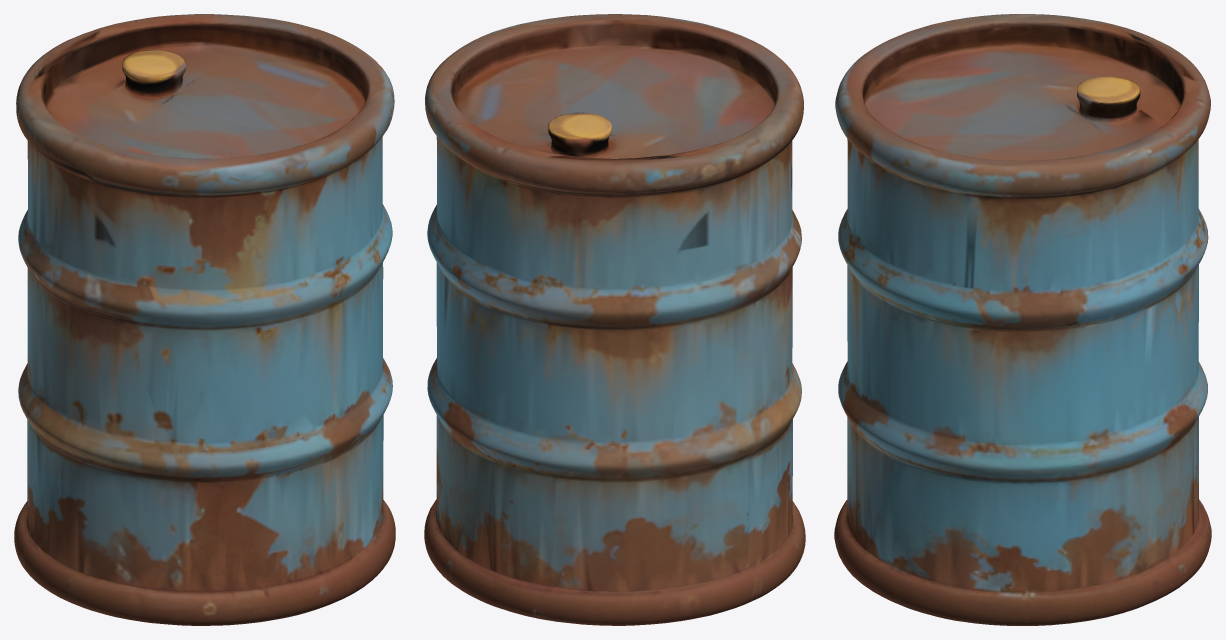
Rendered from barrel.fbx.
The picture shows the model from 3 angles, left to right: view 1: azimuth 30°, elevation 25°; view 2: azimuth 150°, elevation 25°; view 3: azimuth 270°, elevation 25°; orthographic projection.
Parts seen in each view (by area): view 1: barrel; view 2: barrel; view 3: barrel.
Boxes of the visible parts, x1,y1,x2,y2 form: barrel: (14,14,395,625); barrel: (424,14,805,625); barrel: (834,14,1211,625).
Size of the model in its own units: 20.37 by 27.32 by 20.21.
Materials: 1 (1 with a texture image).
